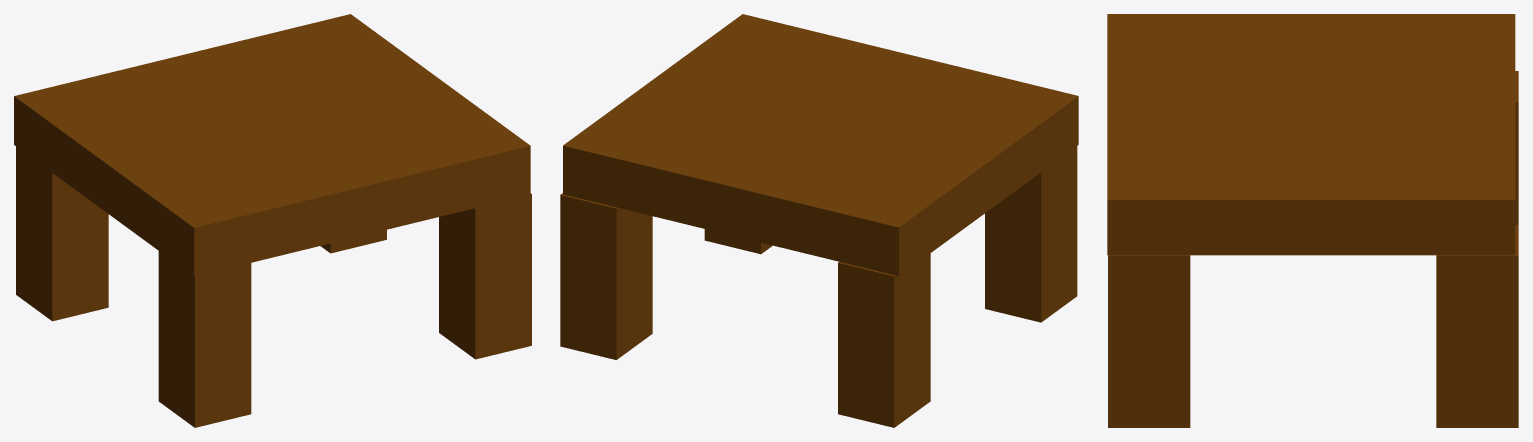
The model's file is mesa.gltf.
The picture shows the model from 3 angles, left to right: view 1: azimuth 30°, elevation 25°; view 2: azimuth 150°, elevation 25°; view 3: azimuth 270°, elevation 25°; orthographic projection. The views are drawn at different scales.
Parts seen in each view (by area): view 1: Part (×5); view 2: Part (×5); view 3: Part (×4).
Part boxes in pixels (x1,y1,x2,y2): Part (×5): [14, 14, 531, 427]; Part (×5): [560, 14, 1078, 427]; Part (×4): [1107, 14, 1518, 427].
Size of the model in its own units: 7.25 by 4.11 by 6.74.
